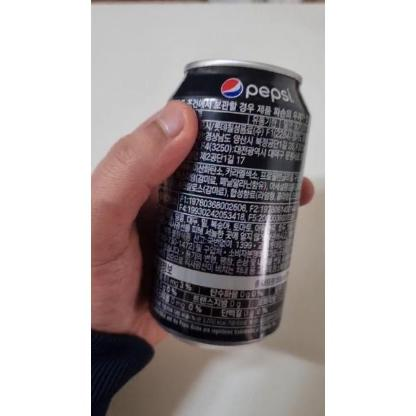Can: (148, 60, 310, 350)
